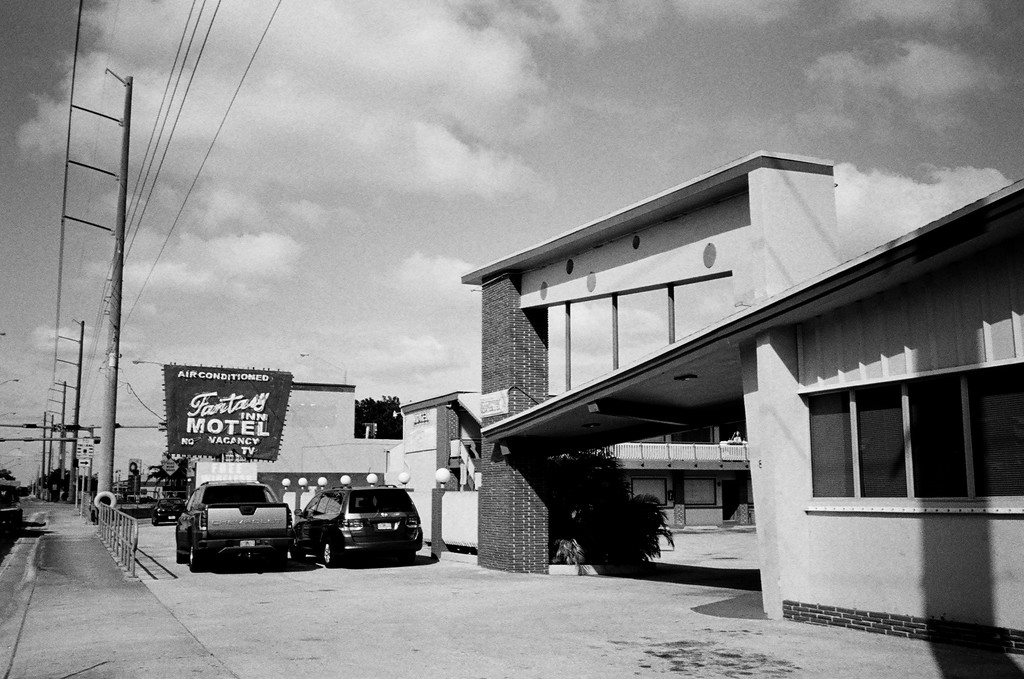mobil: (298, 481, 426, 560), (174, 478, 294, 556)
